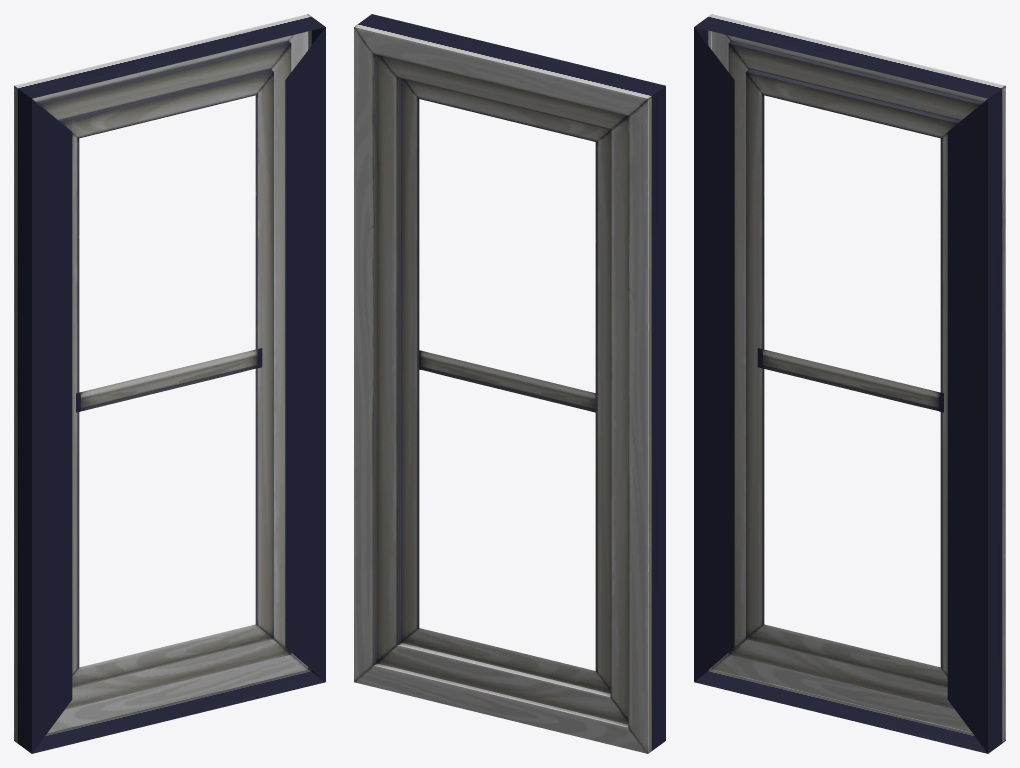
Rendered from ventanabaño.fbx.
3 views of the same model, side by side, from view 1: azimuth 30°, elevation 25°; view 2: azimuth 150°, elevation 25°; view 3: azimuth 330°, elevation 25° (orthographic).
Visible parts, largest first — view 1: ventana; view 2: ventana; view 3: ventana.
Part boxes in pixels (x1,y1,x2,y2): ventana: [14, 14, 325, 753]; ventana: [354, 14, 665, 753]; ventana: [694, 14, 1005, 753].
Bounding box in the file's own units: 90.51 × 193 × 9.5.
Materials: 1 (1 with a texture image).
